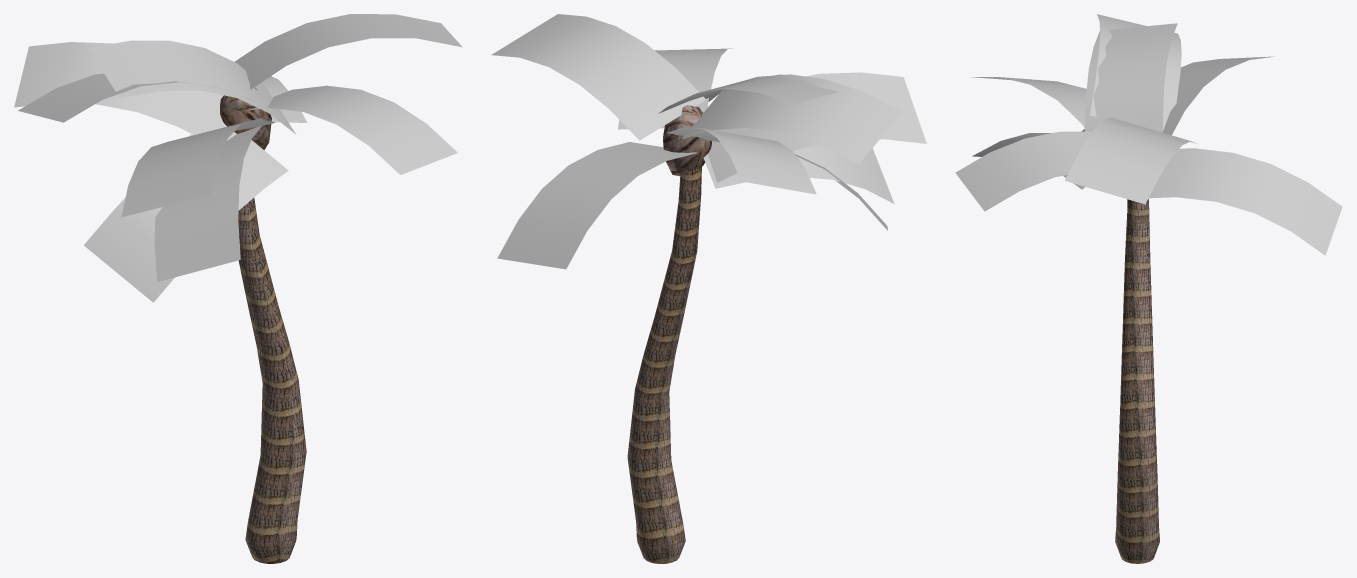
File: Coconut_tree_3.fbx
3 renders of one model, left to right at view 1: azimuth 30°, elevation 25°; view 2: azimuth 150°, elevation 25°; view 3: azimuth 270°, elevation 25°, orthographic. The views are drawn at different scales.
Visible parts, largest first — view 1: Coconut_tree_3; view 2: Coconut_tree_3; view 3: Coconut_tree_3.
Boxes of the visible parts, box(x1,y1,x2,y2) form: Coconut_tree_3: box(14, 14, 462, 563); Coconut_tree_3: box(491, 14, 926, 563); Coconut_tree_3: box(955, 14, 1342, 563).
Size of the model in its own units: 2440 by 3054 by 2305.
